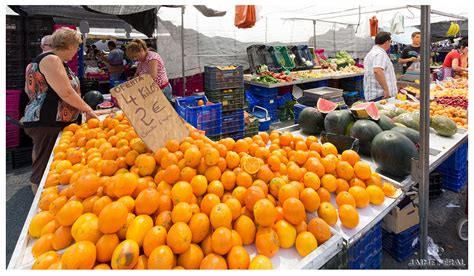orange: (98, 202, 129, 234), (166, 221, 194, 252), (73, 172, 101, 198), (211, 227, 235, 254), (283, 198, 307, 223), (172, 181, 193, 204), (163, 163, 181, 185), (319, 142, 340, 157), (203, 149, 220, 166)
